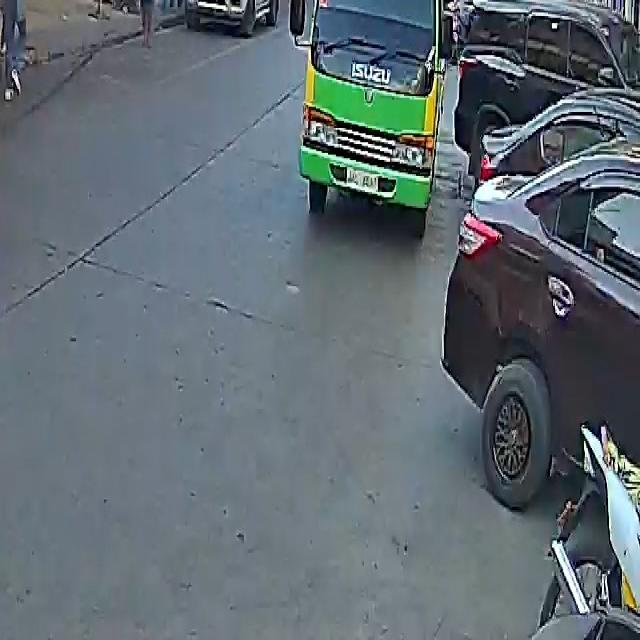car: (444, 149, 640, 509), (451, 0, 640, 176), (188, 0, 282, 32)
